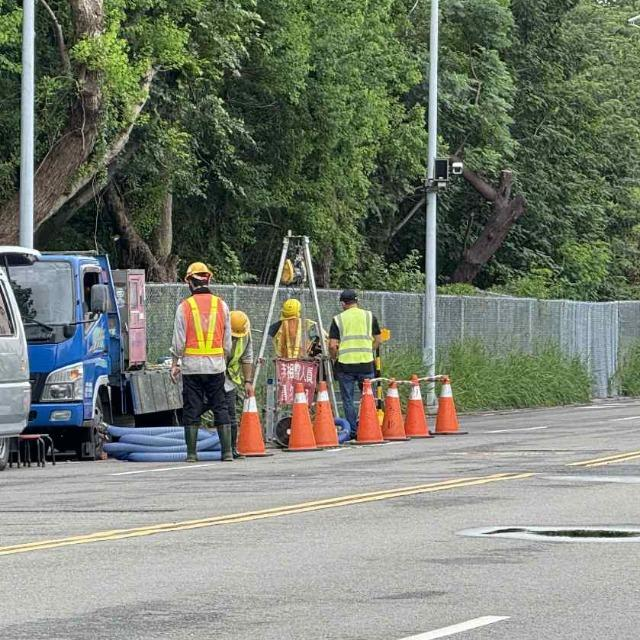Vest: (173, 290, 233, 362), (324, 307, 382, 374)
